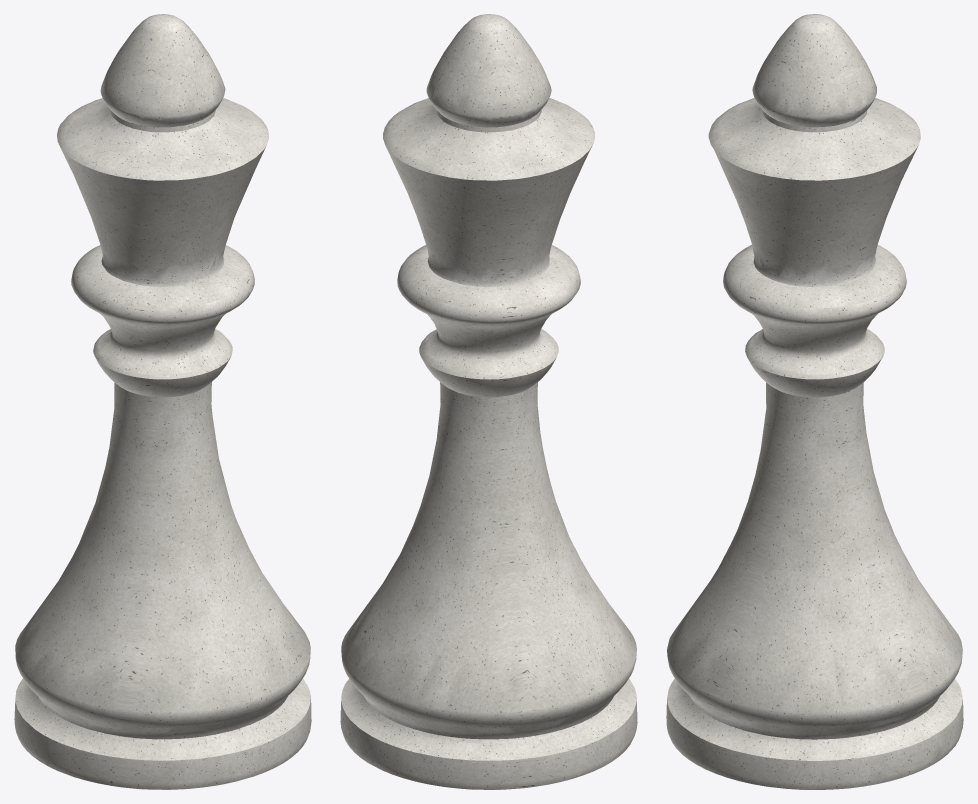
File: king-white.glb
The picture shows the model from 3 angles, left to right: view 1: azimuth 30°, elevation 25°; view 2: azimuth 150°, elevation 25°; view 3: azimuth 270°, elevation 25°; orthographic projection.
Parts seen in each view (by area): view 1: kral_bila; view 2: kral_bila; view 3: kral_bila.
Boxes of the visible parts, left/top/right/bottom form: kral_bila: left=14, top=14, right=311, bottom=789; kral_bila: left=340, top=14, right=637, bottom=789; kral_bila: left=666, top=14, right=963, bottom=789.
Size of the model in its own units: 0.6172 by 1.65 by 0.617.
1 material, 1 textured.
